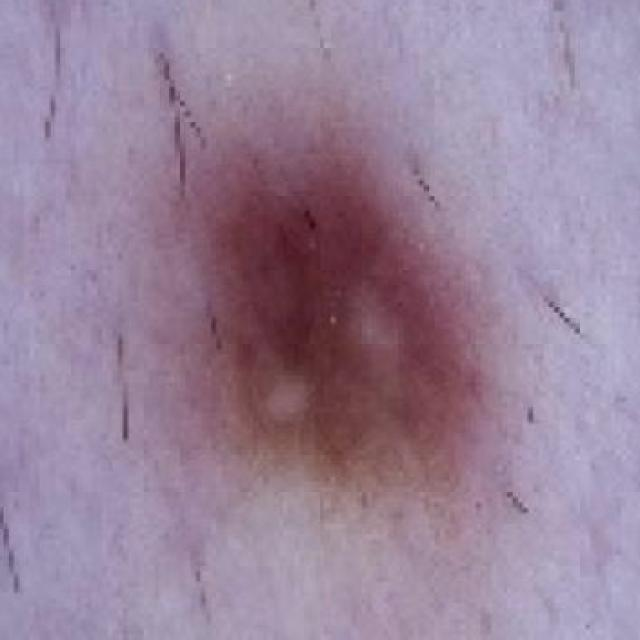DF: (46, 63, 614, 588)
